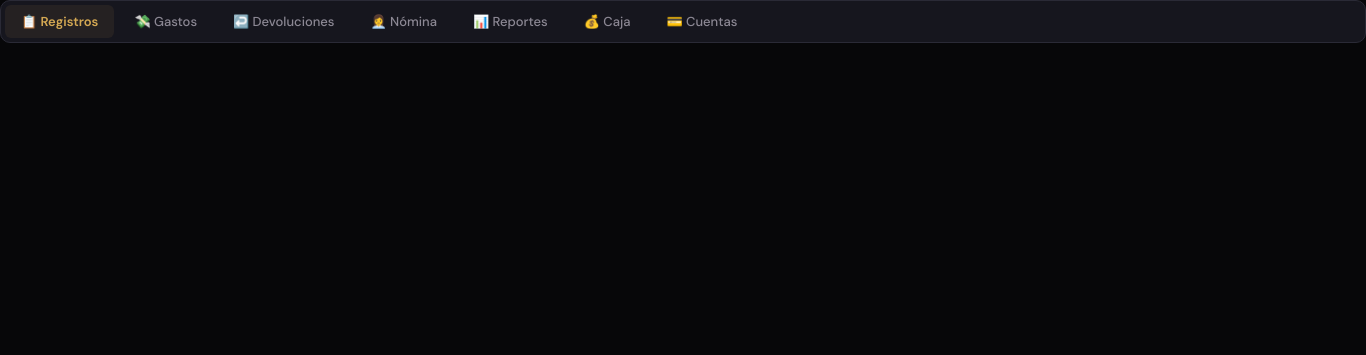
Test: CajaBanner SOLO en el tab Caja (regla de oro) › FinanzasPage: el banner NO aparece en Registros pero SÍ al activar el tab Caja
Expected: the text "caja cerrada — abrir para vender" is not shown
Activar el tab Caja → el banner consulta el estado de caja y aparece
Click the button "💰 Caja" at (607, 22), box [568,5,646,38]
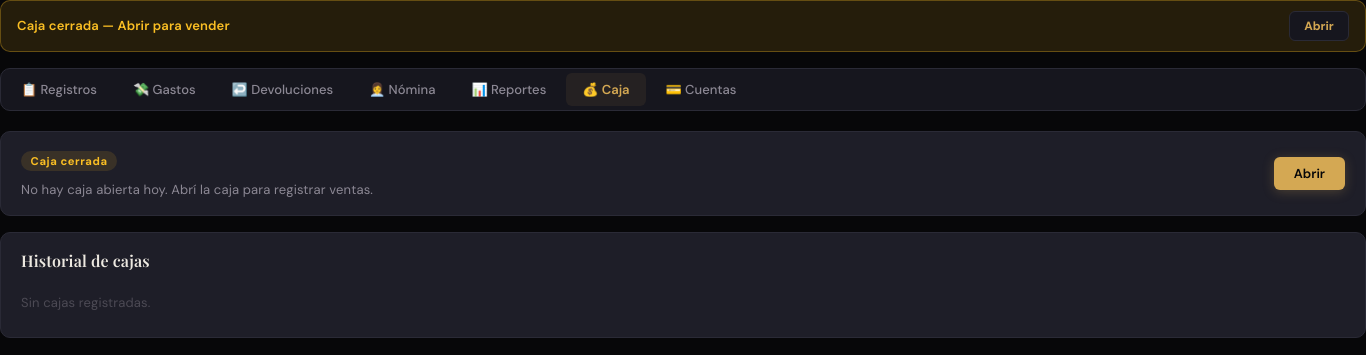
Result: the text "Caja cerrada — Abrir para vender" is shown at [17,16,230,36]
